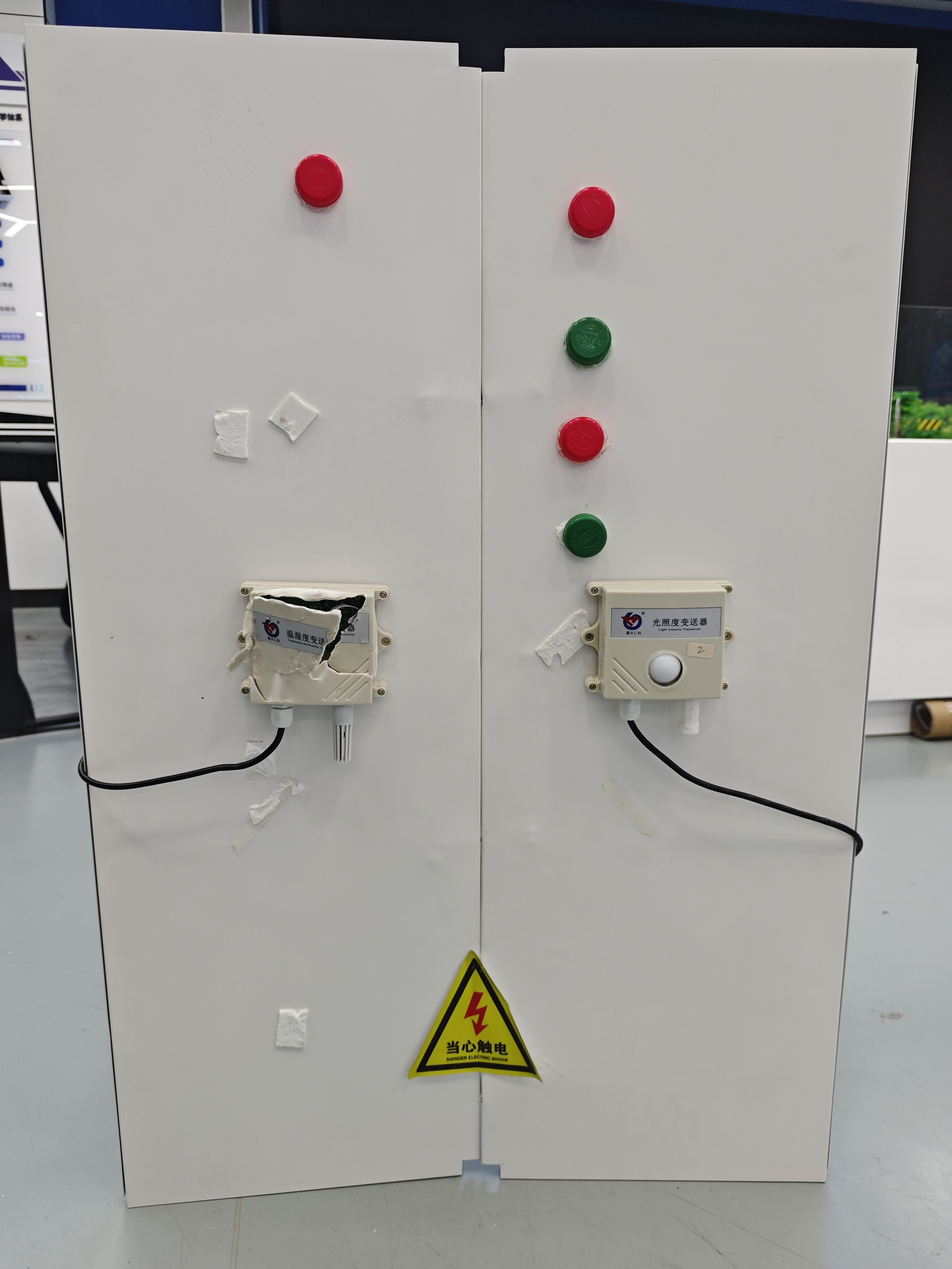red_warning: (533, 400, 665, 483), (278, 132, 383, 220), (552, 170, 648, 263)
sensor_damage: (214, 533, 416, 784)
